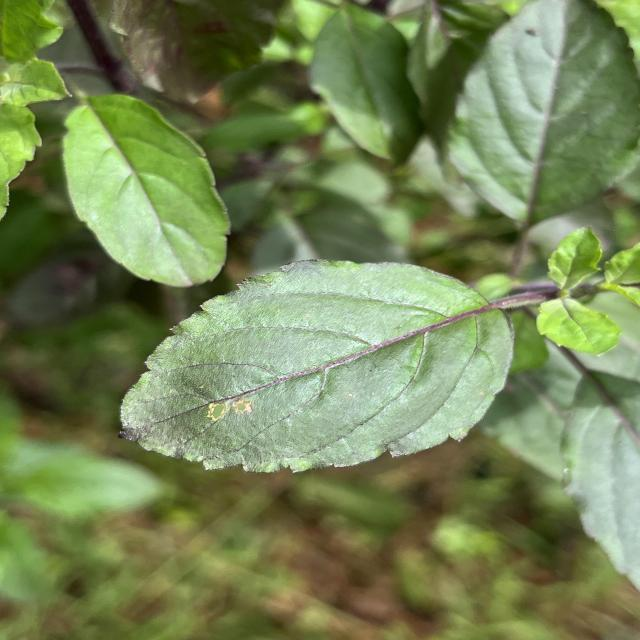Ocimum tenuiflorum: (116, 254, 522, 477)
